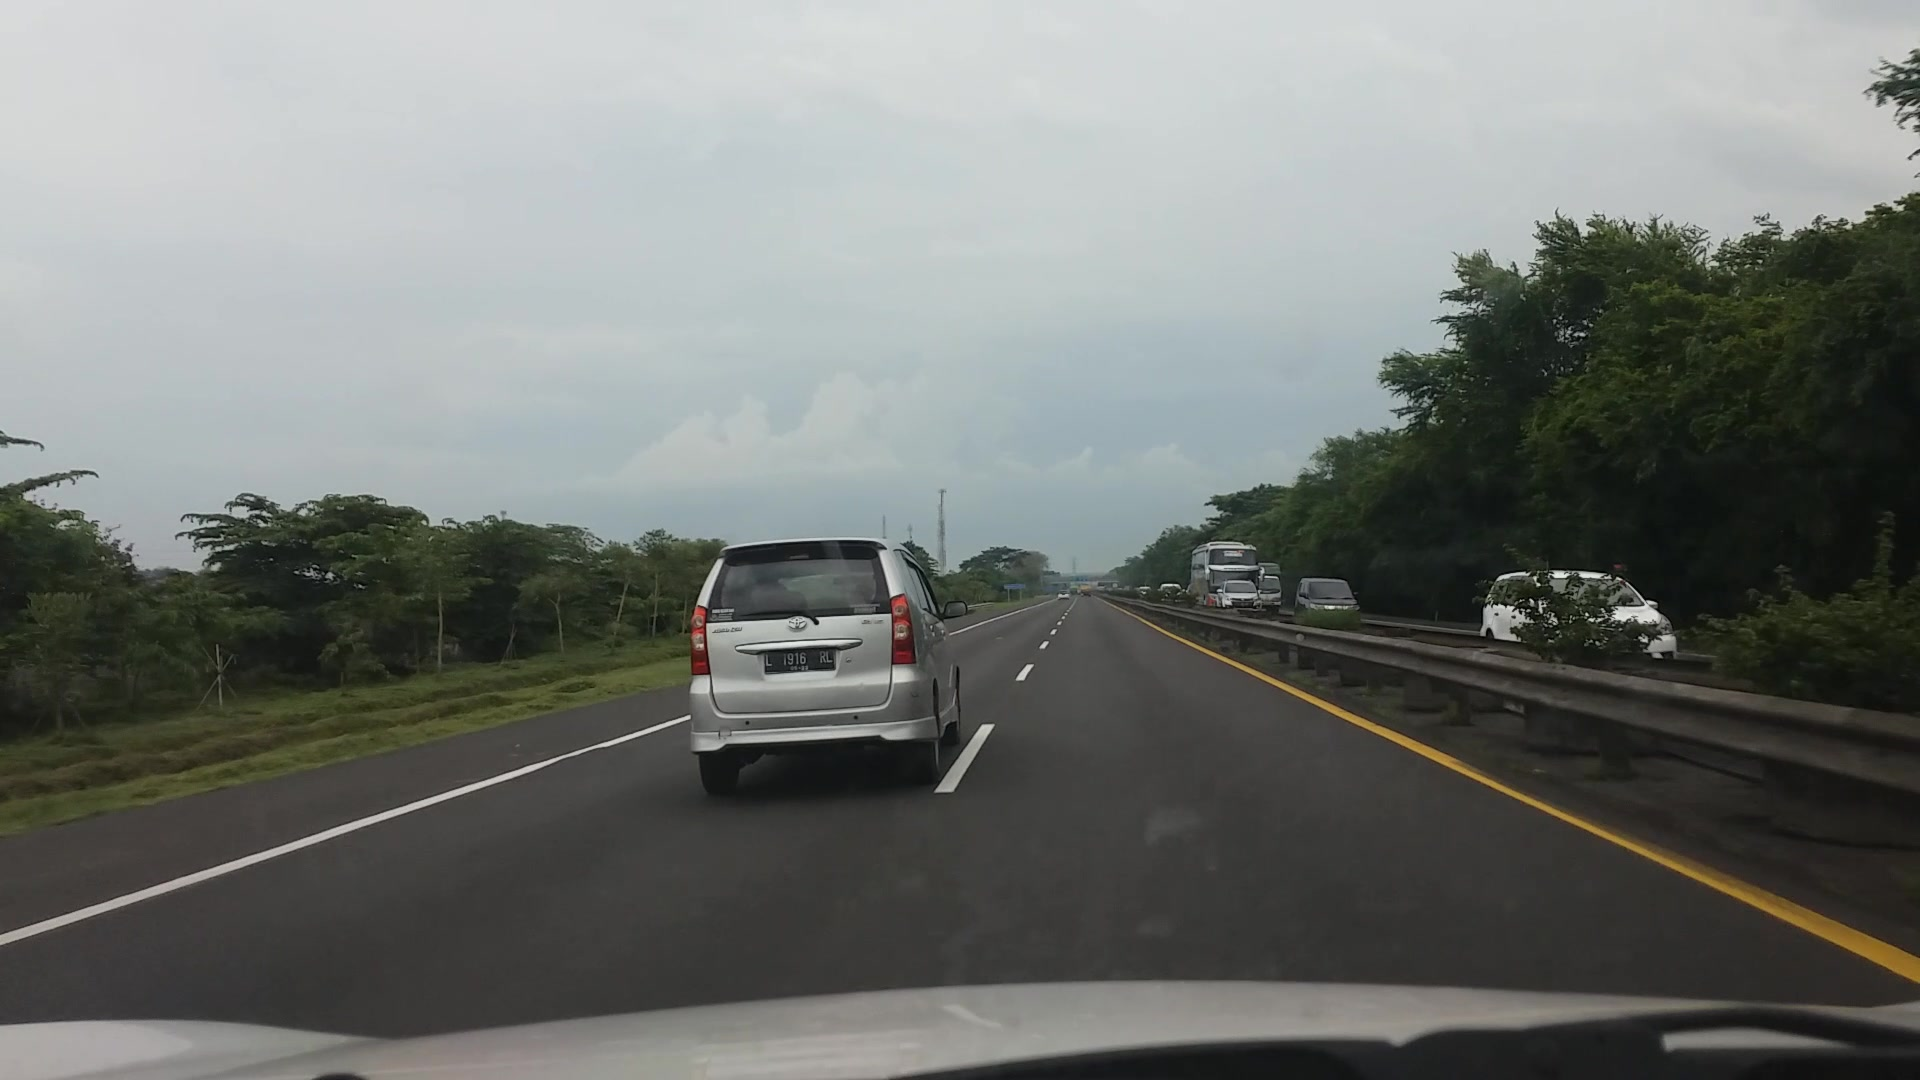plate_positive: (764, 650, 835, 675)
